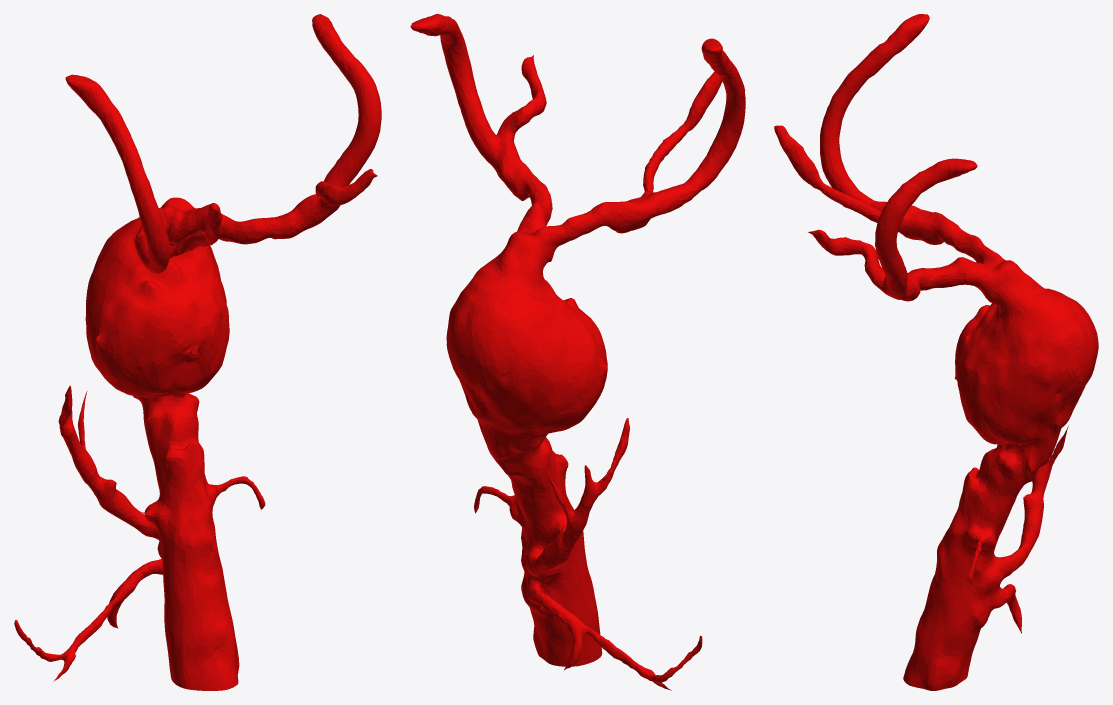
File: aneurism.glb
3 views of the same model, side by side, from view 1: azimuth 30°, elevation 25°; view 2: azimuth 150°, elevation 25°; view 3: azimuth 270°, elevation 25° (orthographic). The views are drawn at different scales.
Size of the model in its own units: 0.1795 by 0.3523 by 0.1731.
